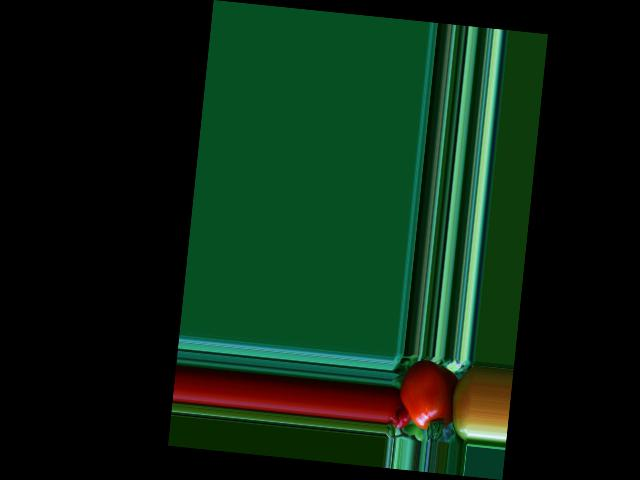tomato: (396, 358, 457, 431)
